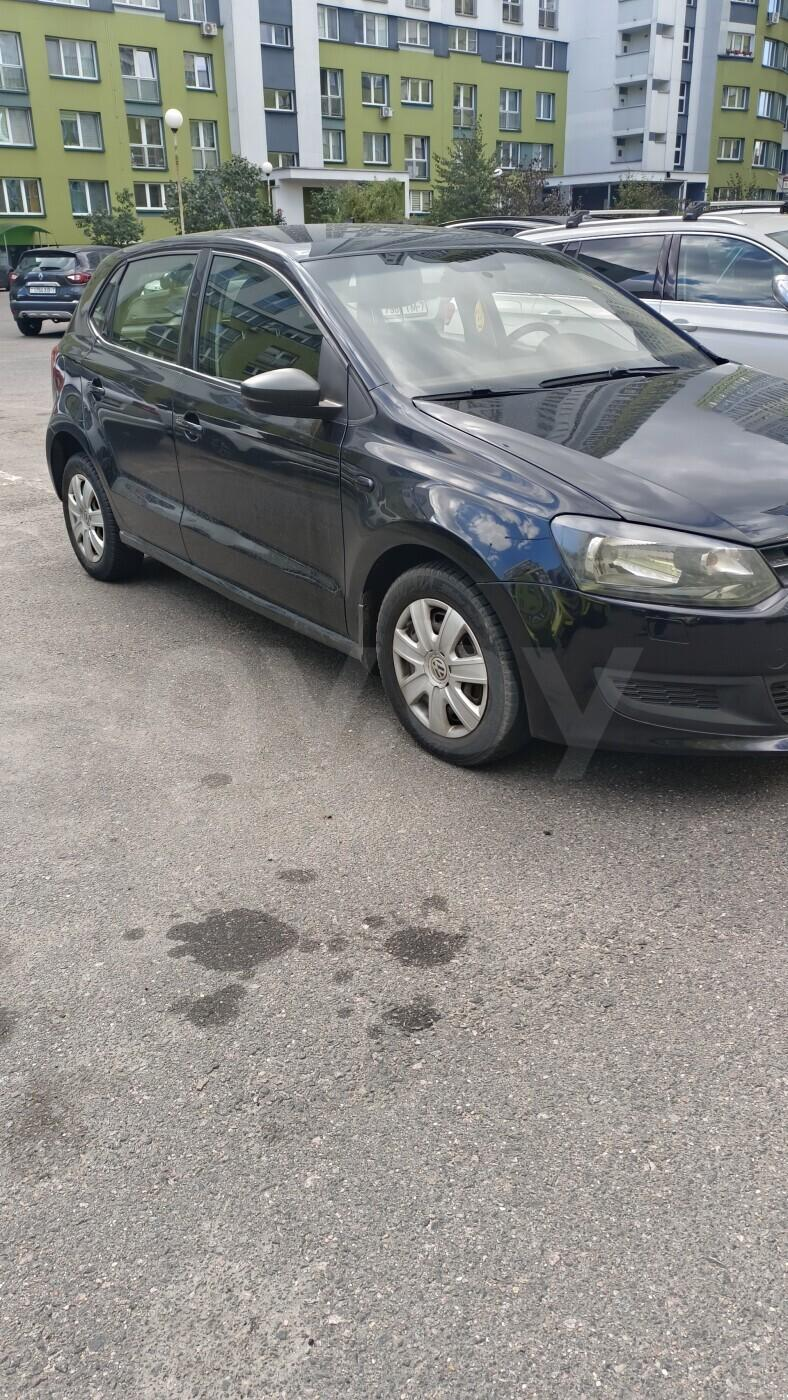Polo_2009-2015: (0, 212, 787, 814)
